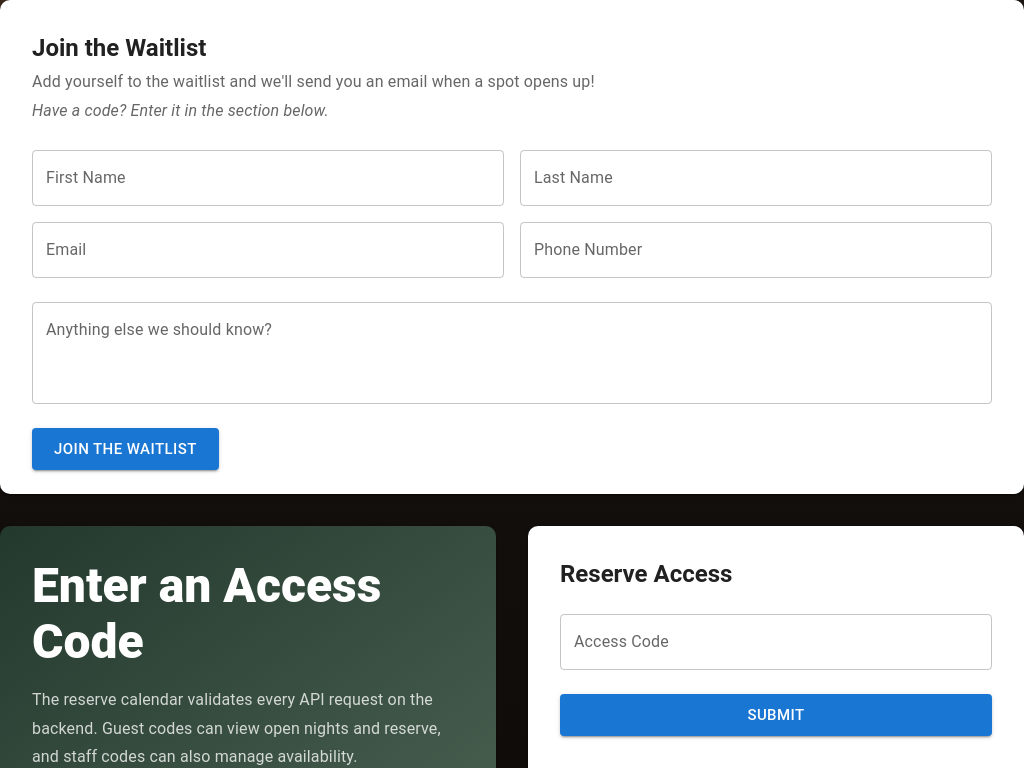
Scenario: Scheduling Component › shows an error for an invalid access code
Step 1. Type "wrongpassword" into the password field with placeholder "Access Code" → (776, 642), box [560,614,992,670]
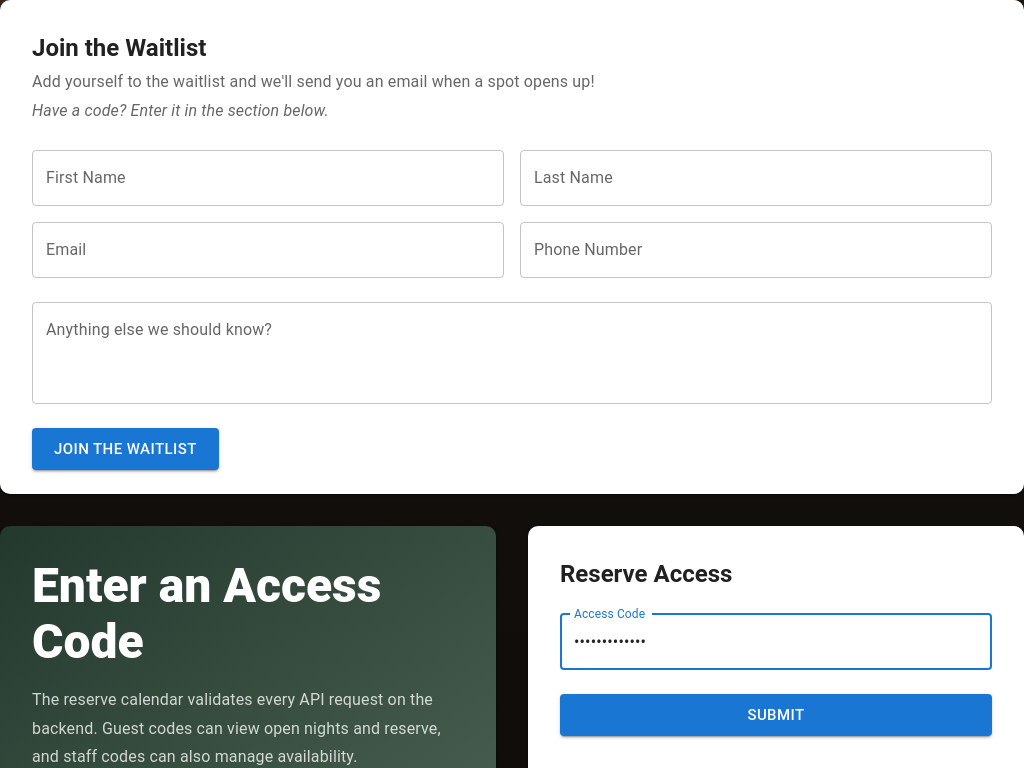
Step 2. Click the button "Submit" → (776, 715), box [560,694,992,736]
(page scrolled)
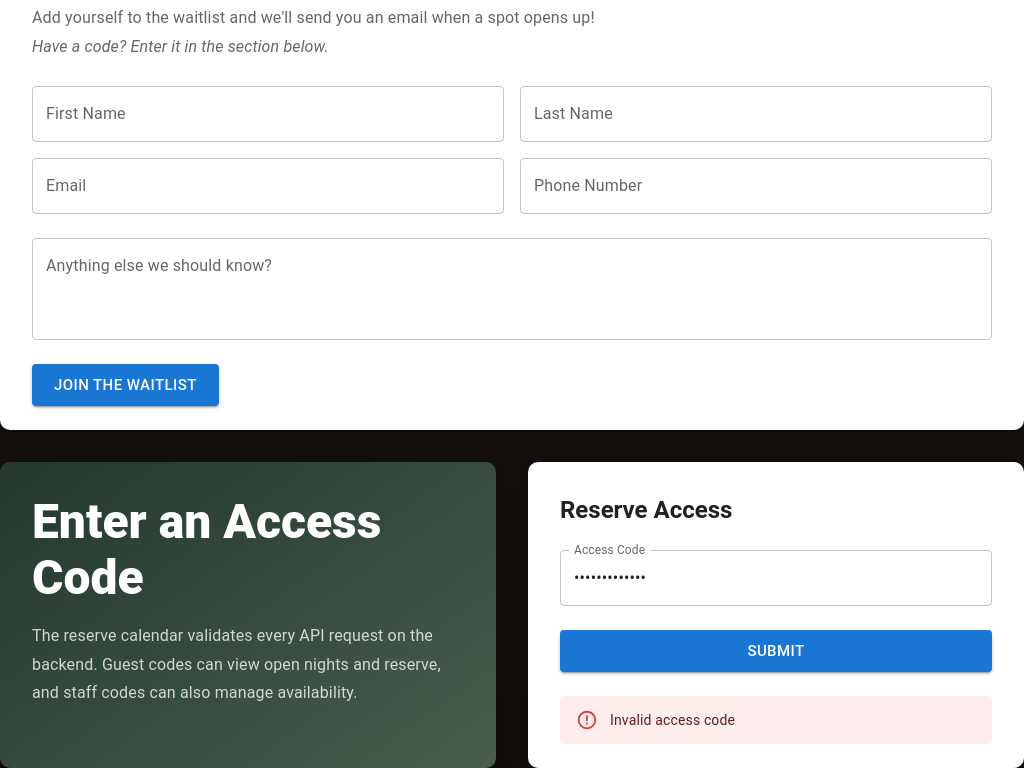
Expected: the text "Invalid access code" is shown, [610,712,735,728]
